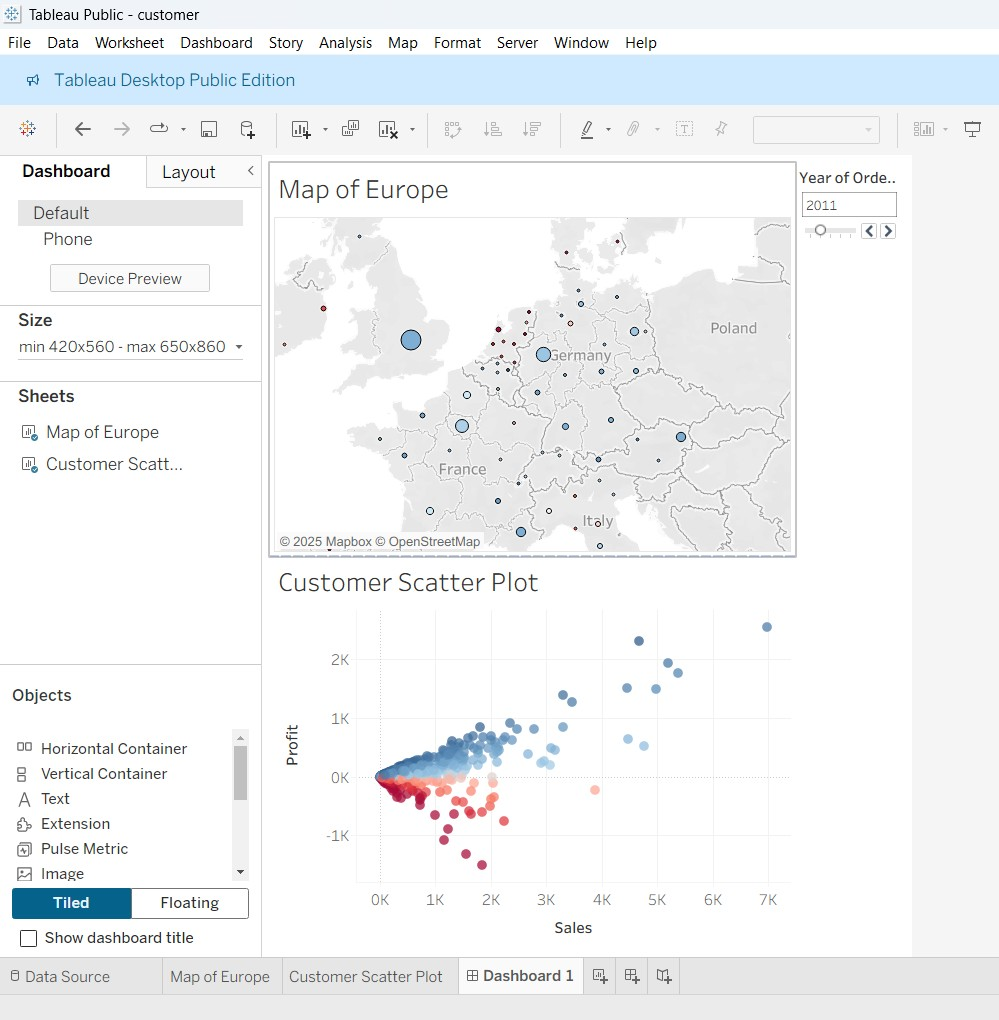

What the dashboard file says about the page in this screenshot:
{"tool":"tableau","page":{"name":"Dashboard 1","canvas":[650,860],"ordinal":0},"visuals":[{"type":"worksheet","title":"Map of Europe","mark":"Automatic","box":[8,8.6,525,421.4]},{"type":"filter","title":"Map of Europe","param":"[federated.0w2tgsm0urxt7o1d42ysd1usea6q].[yr:Order Date:ok]","box":[533,8.6,109,95.4]},{"type":"worksheet","title":"Customer Scatter Plot","mark":"Automatic","rows":["Profit"],"cols":["Sales"],"box":[8,430,525,421.4]}]}

Visuals, with their boxes on the page's 650x860 design canvas (x1, y1, x2, y2). These are canvas units, not pixel positions in the 999x1020 screenshot, which may show the page scaled, cropped or inside an application window:
"Map of Europe" worksheet: left=8, top=9, right=533, bottom=430
"Map of Europe" filter: left=533, top=9, right=642, bottom=104
"Customer Scatter Plot" worksheet: left=8, top=430, right=533, bottom=851
